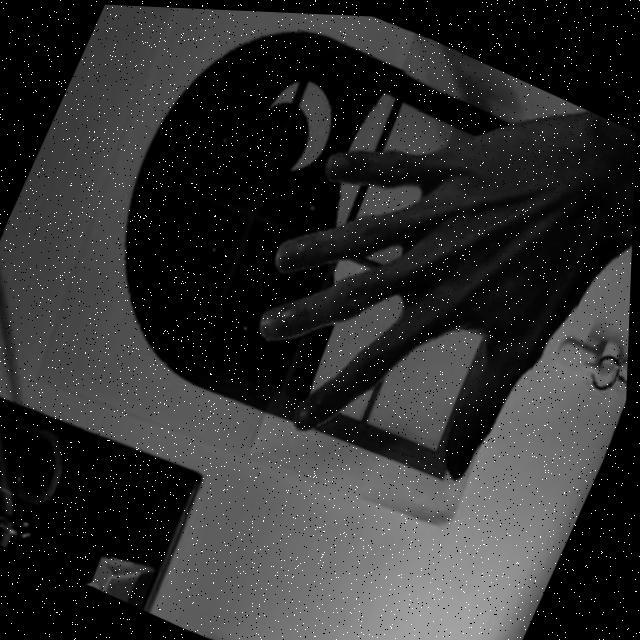no-gloves: (176, 6, 640, 548)
